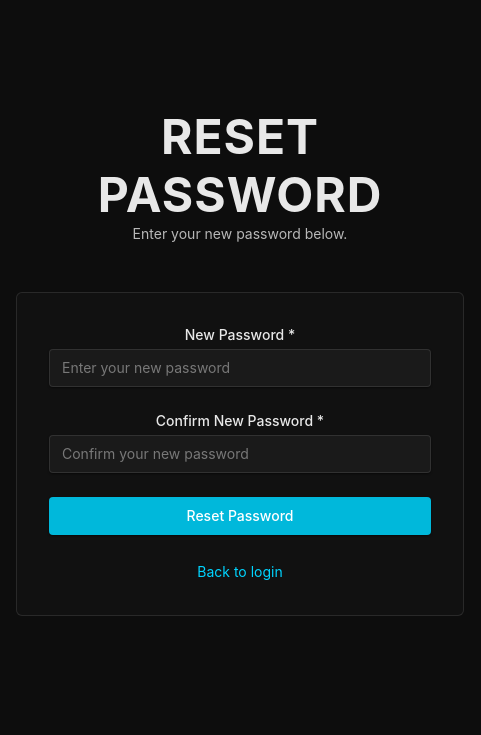
ResetPasswordPage › Password Strength Validation › should validate password strength on blur
Type "weak" into the password field labelled "New Password *" at (240, 368), box [49,349,431,387]
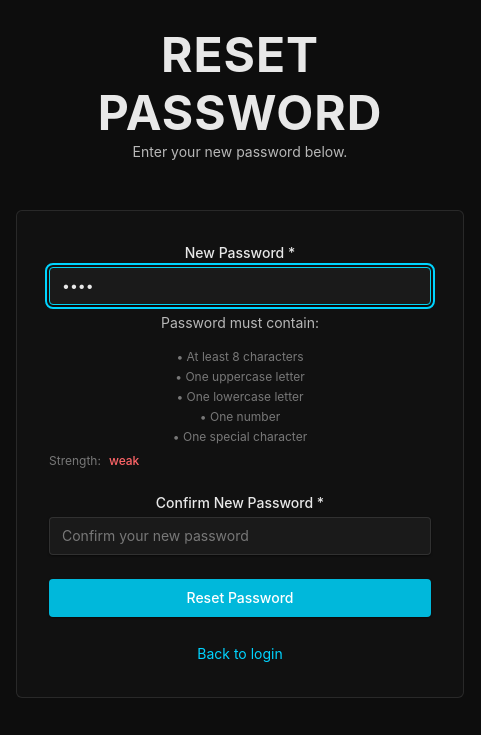
Press Tab
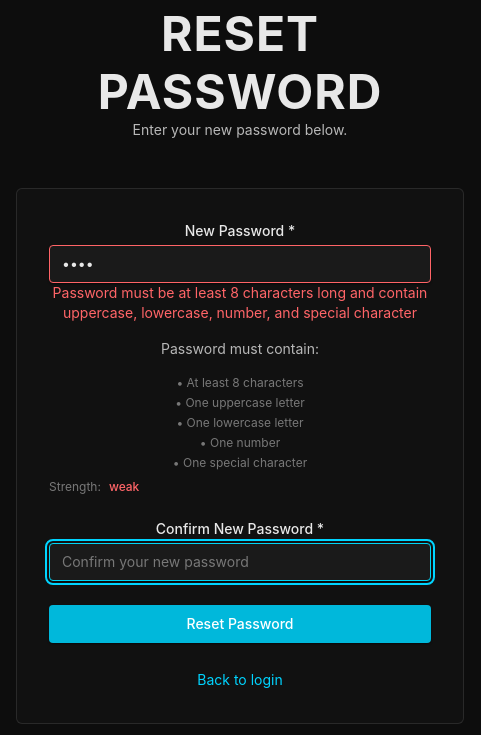
Result: the text "Password must be at least 8 characters" is shown at [53,284,427,321]
